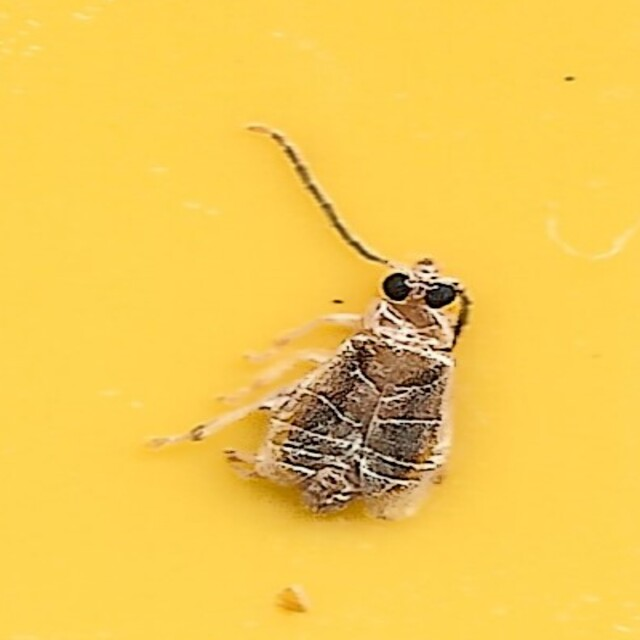Coleoptera: (160, 122, 480, 518)
